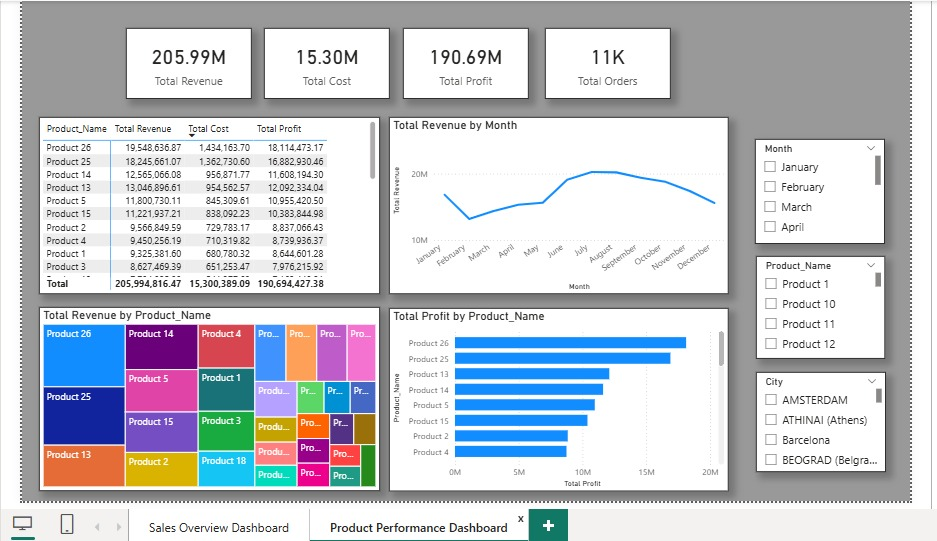

The page's visual inventory and layout, read from the dashboard file:
{"tool":"powerbi","page":{"name":"Product Performance Dashboard","canvas":[1280,720],"ordinal":1},"visuals":[{"type":"treemap","fields":{"Group":["Budgets2017.Product_Name"],"Values":["DaX Measure.Total Revenue"]},"box":[24.5,440.6,491,265],"z":0},{"type":"pivotTable","fields":{"Rows":["Budgets2017.Product_Name"],"Values":["DaX Measure.Total Revenue","DaX Measure.Total Cost","DaX Measure.Total Profit"]},"box":[24.5,167,491,254.9],"z":1000},{"type":"lineChart","fields":{"Y":["DaX Measure.Total Revenue"],"Category":["SalesOrder.OrderDate.Variation.Date Hierarchy.Month"]},"box":[528.7,167,488.5,255.1],"z":2000},{"type":"slicer","fields":{"Values":["Product.Product_Name"]},"box":[1057,367.2,185.8,148.3],"z":3000},{"type":"slicer","fields":{"Values":["SalesOrder.OrderDate.Variation.Date Hierarchy.Month"]},"box":[1055.5,198.7,187.2,151.2],"z":4000},{"type":"slicer","fields":{"Values":["Regions.City"]},"box":[1057,534.2,187.2,144],"z":5000},{"type":"clusteredBarChart","fields":{"Y":["DaX Measure.Total Profit"],"Category":["Budgets2017.Product_Name"]},"box":[528.7,442.1,488.5,264.3],"z":6000},{"type":"card","fields":{"Values":["DaX Measure.Total Revenue"]},"box":[150,38.6,180.9,102],"z":7000},{"type":"card","fields":{"Values":["DaX Measure.Total Cost"]},"box":[347.8,38.6,180.9,102],"z":8000},{"type":"card","fields":{"Values":["DaX Measure.Total Profit"]},"box":[548.8,38.6,180.9,102],"z":9000},{"type":"card","fields":{"Values":["DaX Measure.Total Orders"]},"box":[752.9,38.6,180.9,102],"z":10000}]}

Visuals, with their boxes in screenshot pixels (x1, y1, x2, y2):
treemap - Budgets2017.Product_Name x DaX Measure.Total Revenue: x1=37, y1=304, x2=378, y2=489
pivotTable - Budgets2017.Product_Name x DaX Measure.Total Revenue: x1=37, y1=114, x2=378, y2=291
lineChart - DaX Measure.Total Revenue x SalesOrder.OrderDate.Variation.Date Hierarchy.Month: x1=388, y1=114, x2=728, y2=291
slicer - Product.Product_Name: x1=756, y1=253, x2=885, y2=357
slicer - SalesOrder.OrderDate.Variation.Date Hierarchy.Month: x1=754, y1=136, x2=885, y2=241
slicer - Regions.City: x1=756, y1=370, x2=886, y2=470
clusteredBarChart - DaX Measure.Total Profit x Budgets2017.Product_Name: x1=388, y1=305, x2=728, y2=489
card - DaX Measure.Total Revenue: x1=124, y1=24, x2=250, y2=95
card - DaX Measure.Total Cost: x1=262, y1=24, x2=388, y2=95
card - DaX Measure.Total Profit: x1=402, y1=24, x2=528, y2=95
card - DaX Measure.Total Orders: x1=544, y1=24, x2=670, y2=95
